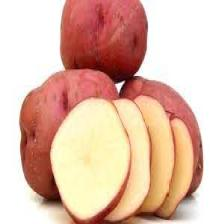Defected potato: (17, 68, 124, 206), (122, 73, 205, 206), (51, 97, 135, 223), (58, 0, 150, 85)
